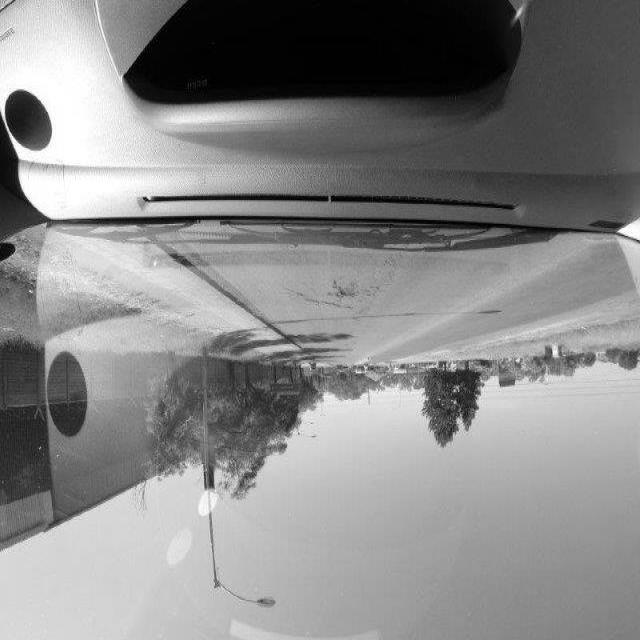jalan retak: (358, 253, 408, 313), (278, 282, 356, 314)
lubang: (326, 278, 366, 308)
